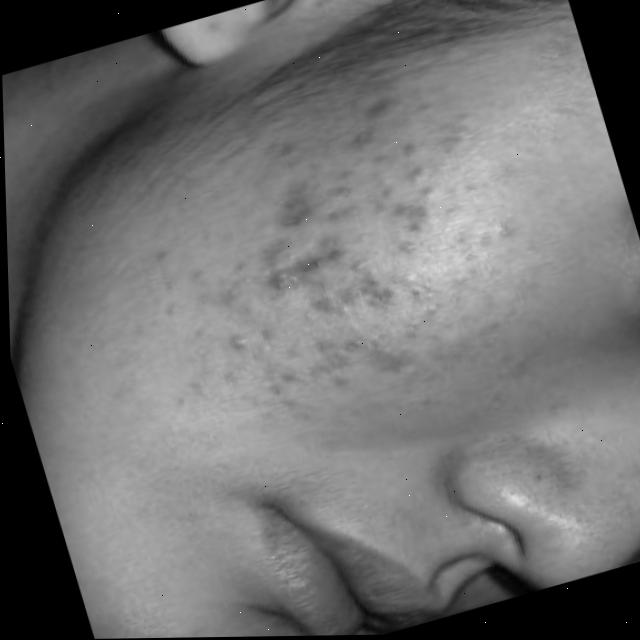Acne: (181, 121, 469, 422)
